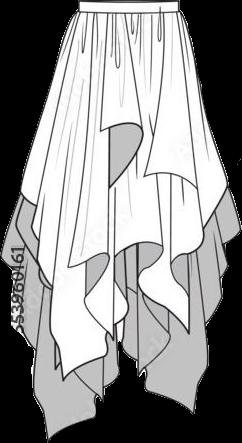Hemline: (0, 223, 241, 442), (19, 179, 230, 380)
Waistline: (77, 9, 182, 18), (77, 0, 179, 4)
